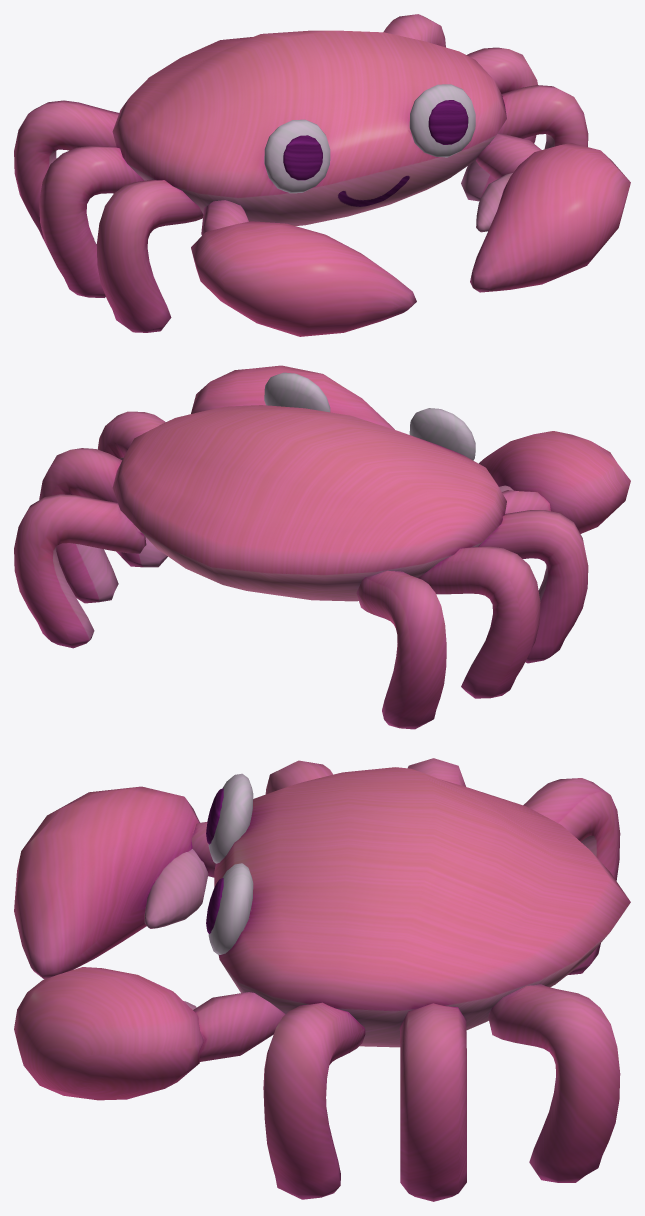
File: Cangrejo_Cha.fbx
3 views of the same model, one above another, from view 1: azimuth 30°, elevation 25°; view 2: azimuth 150°, elevation 25°; view 3: azimuth 270°, elevation 25° (orthographic). The views are drawn at different scales.
Parts seen in each view (by area): view 1: Cangrejo; view 2: Cangrejo; view 3: Cangrejo.
Part boxes in pixels (box(x1,y1,x2,y2)): Cangrejo: box(14, 14, 630, 336); Cangrejo: box(14, 365, 630, 729); Cangrejo: box(14, 758, 630, 1201).
Bounding box in the file's own units: 7.69 × 3.11 × 6.63.
